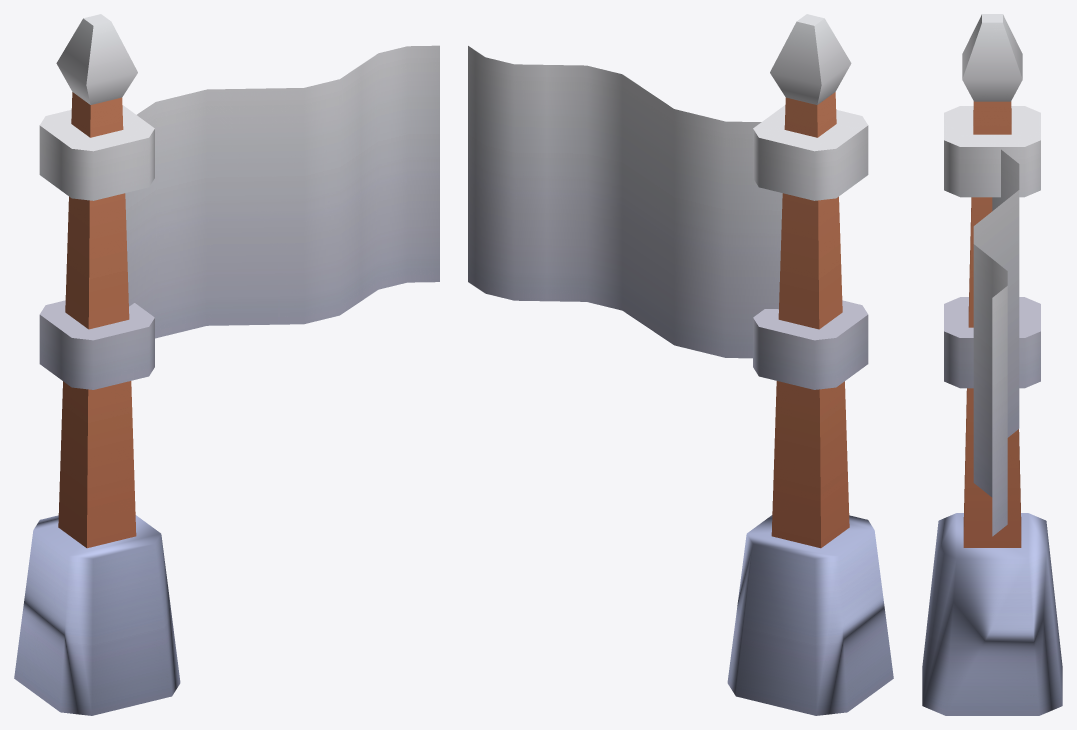
Rendered from Flag-transformed.glb.
The picture shows the model from 3 angles, left to right: view 1: azimuth 30°, elevation 25°; view 2: azimuth 150°, elevation 25°; view 3: azimuth 270°, elevation 25°; orthographic projection.
Visible parts, largest first — view 1: flag; view 2: flag; view 3: flag.
Boxes of the visible parts, <box> form: flag: <box>14,14,439,715</box>; flag: <box>468,14,893,715</box>; flag: <box>922,14,1062,715</box>.
Bounding box in the file's own units: 1.34 × 2.1 × 0.3989.
Materials: 2 (2 with a texture image).
